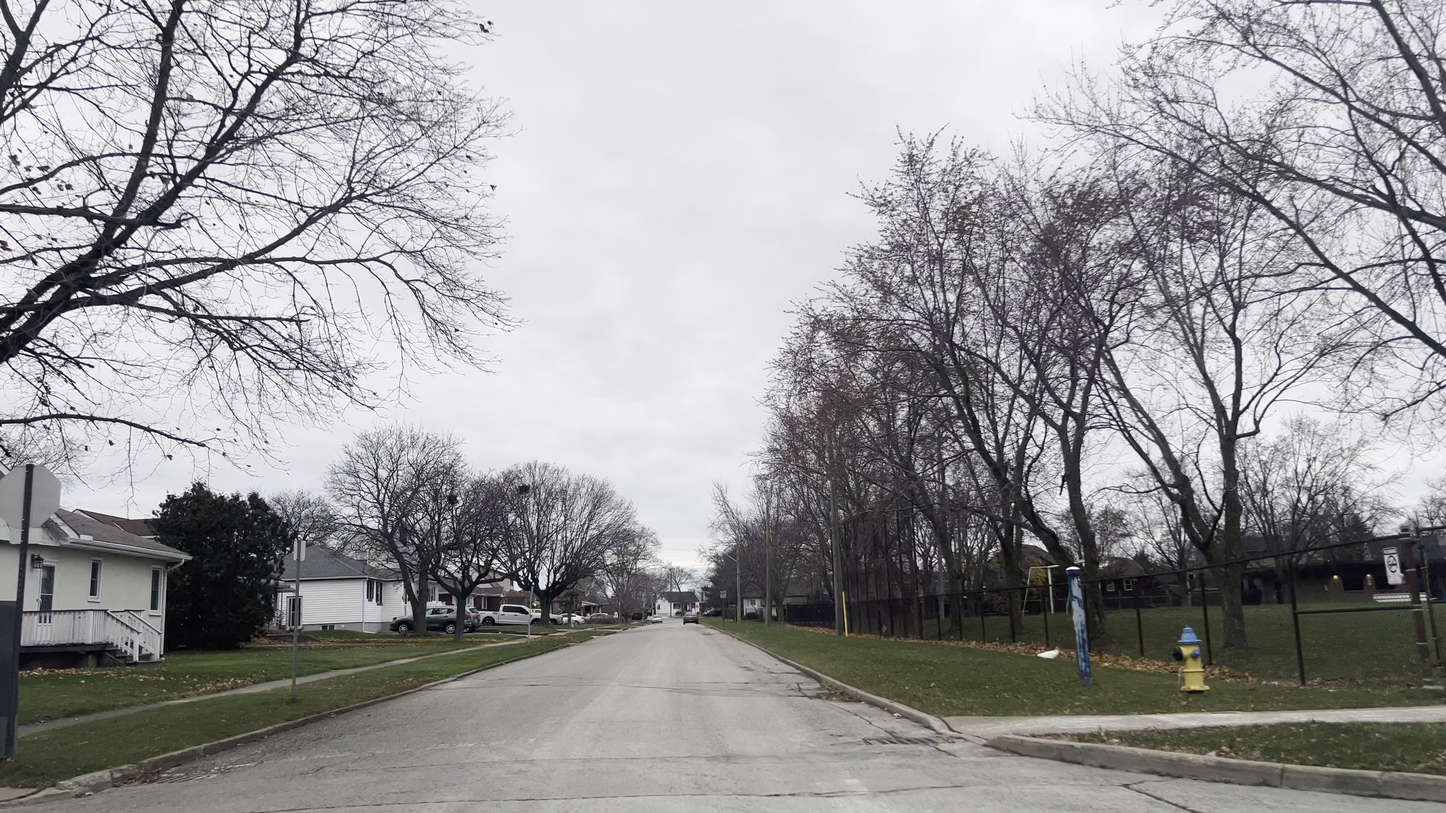cracks: (1108, 774, 1213, 813)
pothole: (773, 666, 880, 714)
